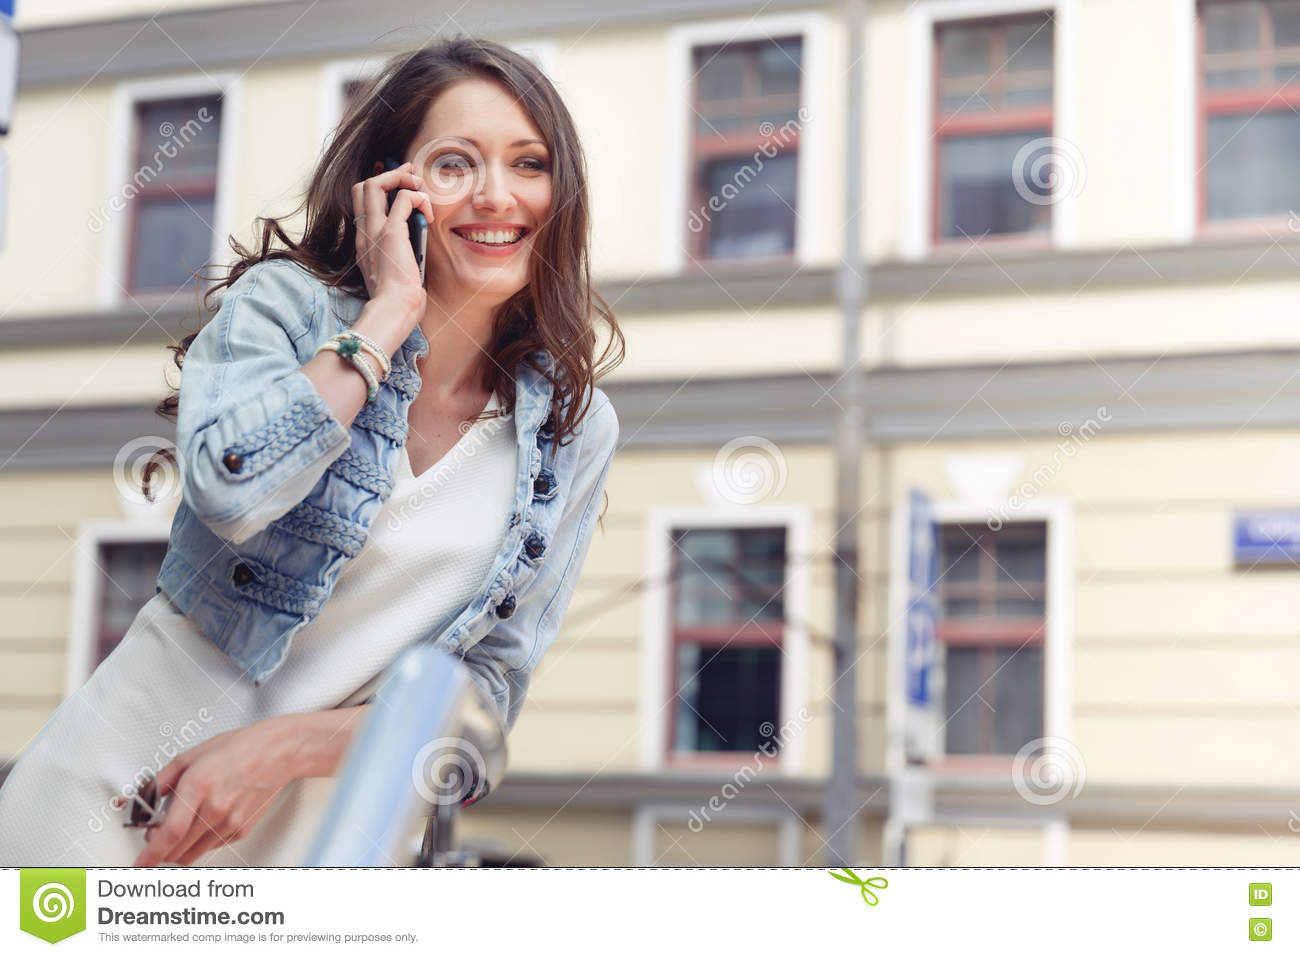talk: (343, 128, 559, 325)
